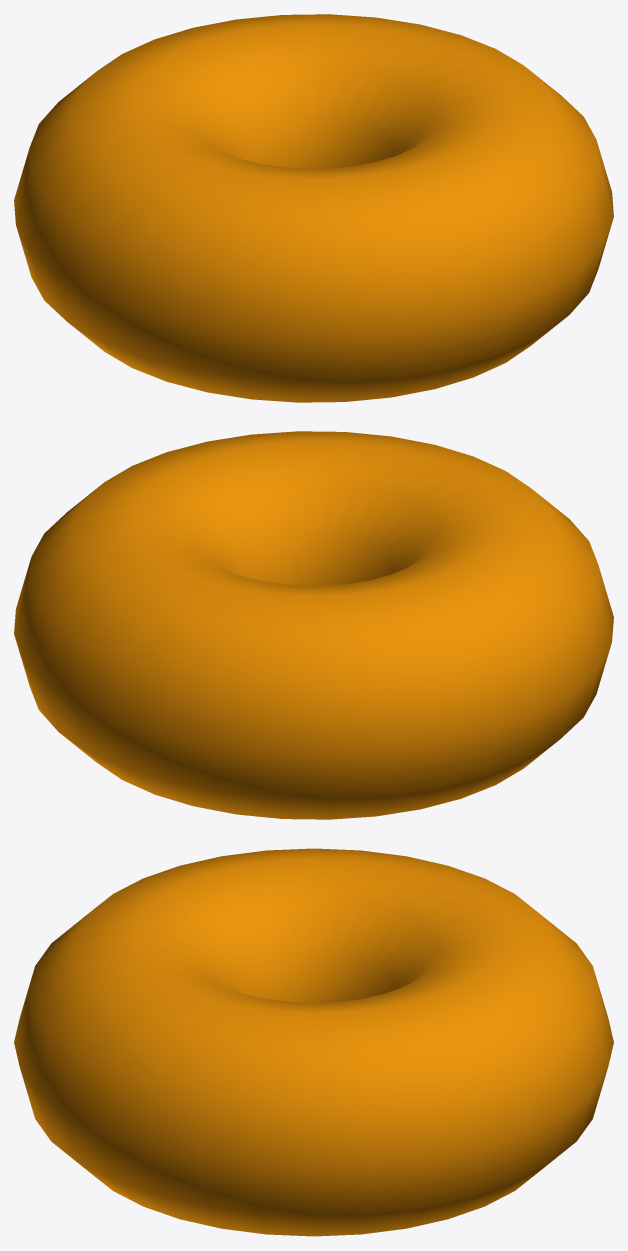
File: donut.gltf
3 views of the same model, one above another, from view 1: azimuth 30°, elevation 25°; view 2: azimuth 150°, elevation 25°; view 3: azimuth 270°, elevation 25° (orthographic).
Parts seen in each view (by area): view 1: Torus.003; view 2: Torus.003; view 3: Torus.003.
Boxes of the visible parts, x1,y1,x2,y2 form: Torus.003: (14,14,613,402); Torus.003: (14,431,613,819); Torus.003: (14,848,613,1236).
Size of the model in its own units: 1.28 by 0.5 by 1.28.
